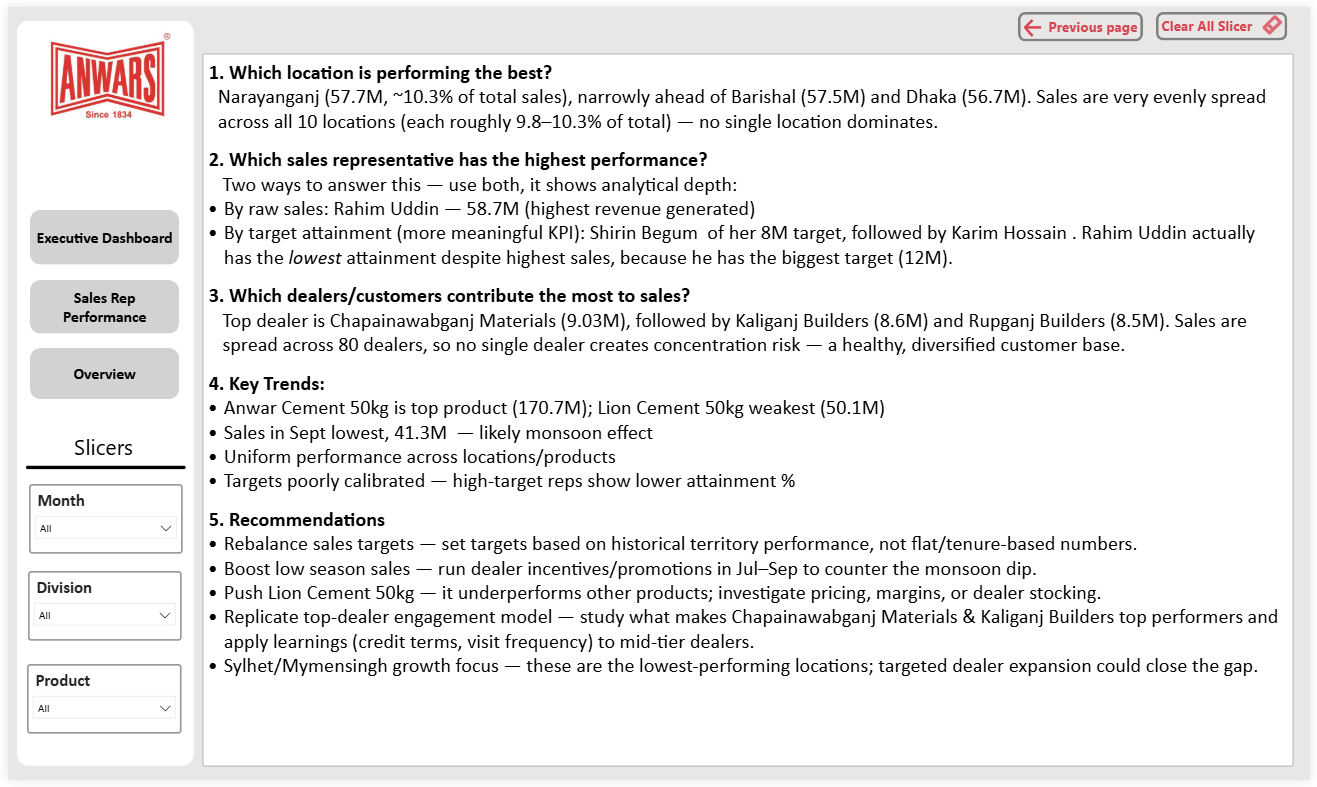

The dashboard page shown, as its layout file describes it:
{"tool":"powerbi","page":{"name":"Business Analysis & Recommendation","canvas":[1550,920],"ordinal":4},"visuals":[{"type":"group","id":"g1","title":"Group 2","box":[2.5,15.6,232.5,888.8],"z":0},{"type":"group","id":"g2","title":"Group 1","box":[2.5,15.6,232.5,888.8],"z":0,"group":"g1"},{"type":"actionButton","box":[1202.5,6.2,148.8,35],"z":1000},{"type":"actionButton","box":[1366.2,6.2,156.2,33.8],"z":2000},{"type":"textbox","box":[231.2,55,1300,850],"z":3000},{"type":"shape","box":[10,15.6,212.5,888.8],"z":5000,"group":"g2"},{"type":"actionButton","title":"Sales Overview","box":[26.3,241.7,177.5,65],"z":6000,"group":"g1"},{"type":"shape","box":[21,529.3,190,36.8],"z":8000,"group":"g1"},{"type":"slicer","title":"Month","fields":{"Values":["LocalDateTable_8a713fd1-94c4-4bf1-bb59-1344b7c62bfd.Month"]},"box":[25.4,567.5,182.9,82.7],"z":10000,"group":"g1"},{"type":"slicer","title":"Location","fields":{"Values":["Dealer.Division"]},"box":[23.9,671.2,182.9,82.7],"z":11000,"group":"g1"},{"type":"slicer","title":"Location","fields":{"Values":["Sales_Data.Product"]},"box":[22.5,781.8,184.3,82.7],"z":13000,"group":"g1"},{"type":"actionButton","box":[45.5,502.7,137.1,39.2],"z":14000,"group":"g1"},{"type":"image","box":[2.5,21.7,232.5,131.2],"z":15000,"group":"g2"},{"type":"actionButton","title":"Sales Overview","box":[26.3,325,177.5,63.7],"z":15000,"group":"g1"},{"type":"actionButton","title":"Sales Overview","box":[26.3,406.5,177.5,60.9],"z":16000,"group":"g1"}]}

Visuals, with their boxes in screenshot pixels (x1, y1, x2, y2), scaled from the page's 1550x920 canvas onto the 1317x787 screenshot:
"Group 2" group: region(2, 13, 200, 774)
"Group 1" group: region(2, 13, 200, 774)
actionButton: region(1022, 5, 1148, 35)
actionButton: region(1161, 5, 1294, 34)
textbox: region(196, 47, 1301, 774)
shape: region(8, 13, 189, 774)
"Sales Overview" actionButton: region(22, 207, 173, 262)
shape: region(18, 453, 179, 484)
"Month" slicer: region(22, 485, 177, 556)
"Location" slicer: region(20, 574, 176, 645)
"Location" slicer: region(19, 669, 176, 740)
actionButton: region(39, 430, 155, 464)
image: region(2, 19, 200, 131)
"Sales Overview" actionButton: region(22, 278, 173, 333)
"Sales Overview" actionButton: region(22, 348, 173, 400)
